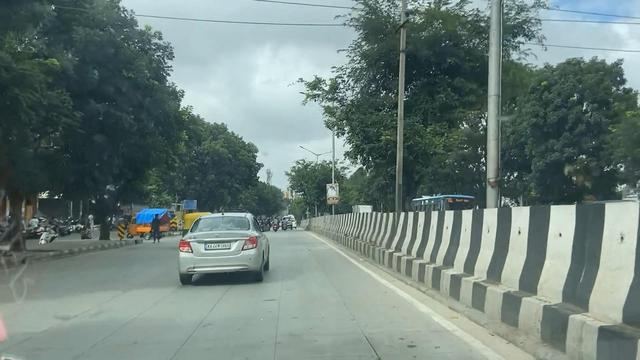LMV: (178, 213, 277, 287)
